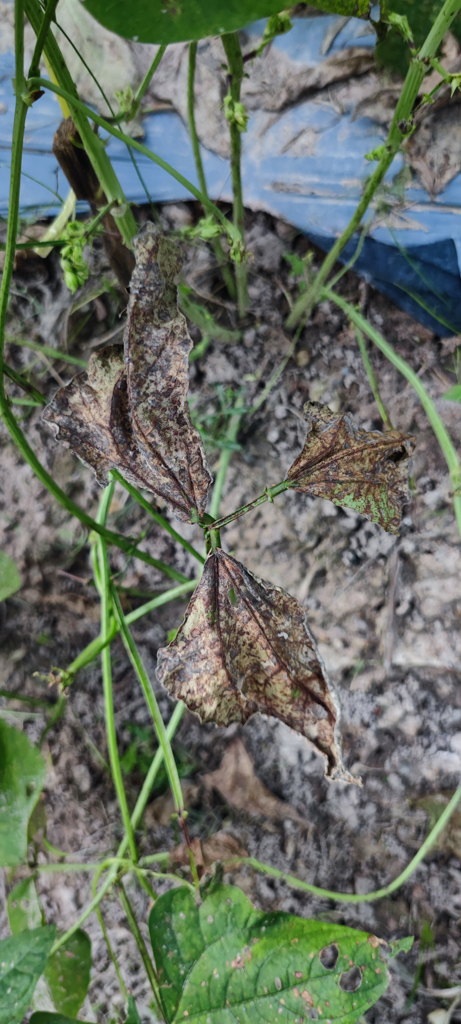Rust: (56, 212, 223, 530), (159, 554, 347, 780), (277, 413, 428, 530)
